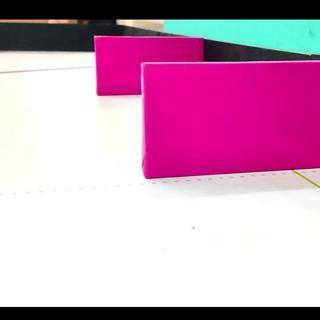xparking: (152, 65, 319, 182), (96, 36, 140, 95)
